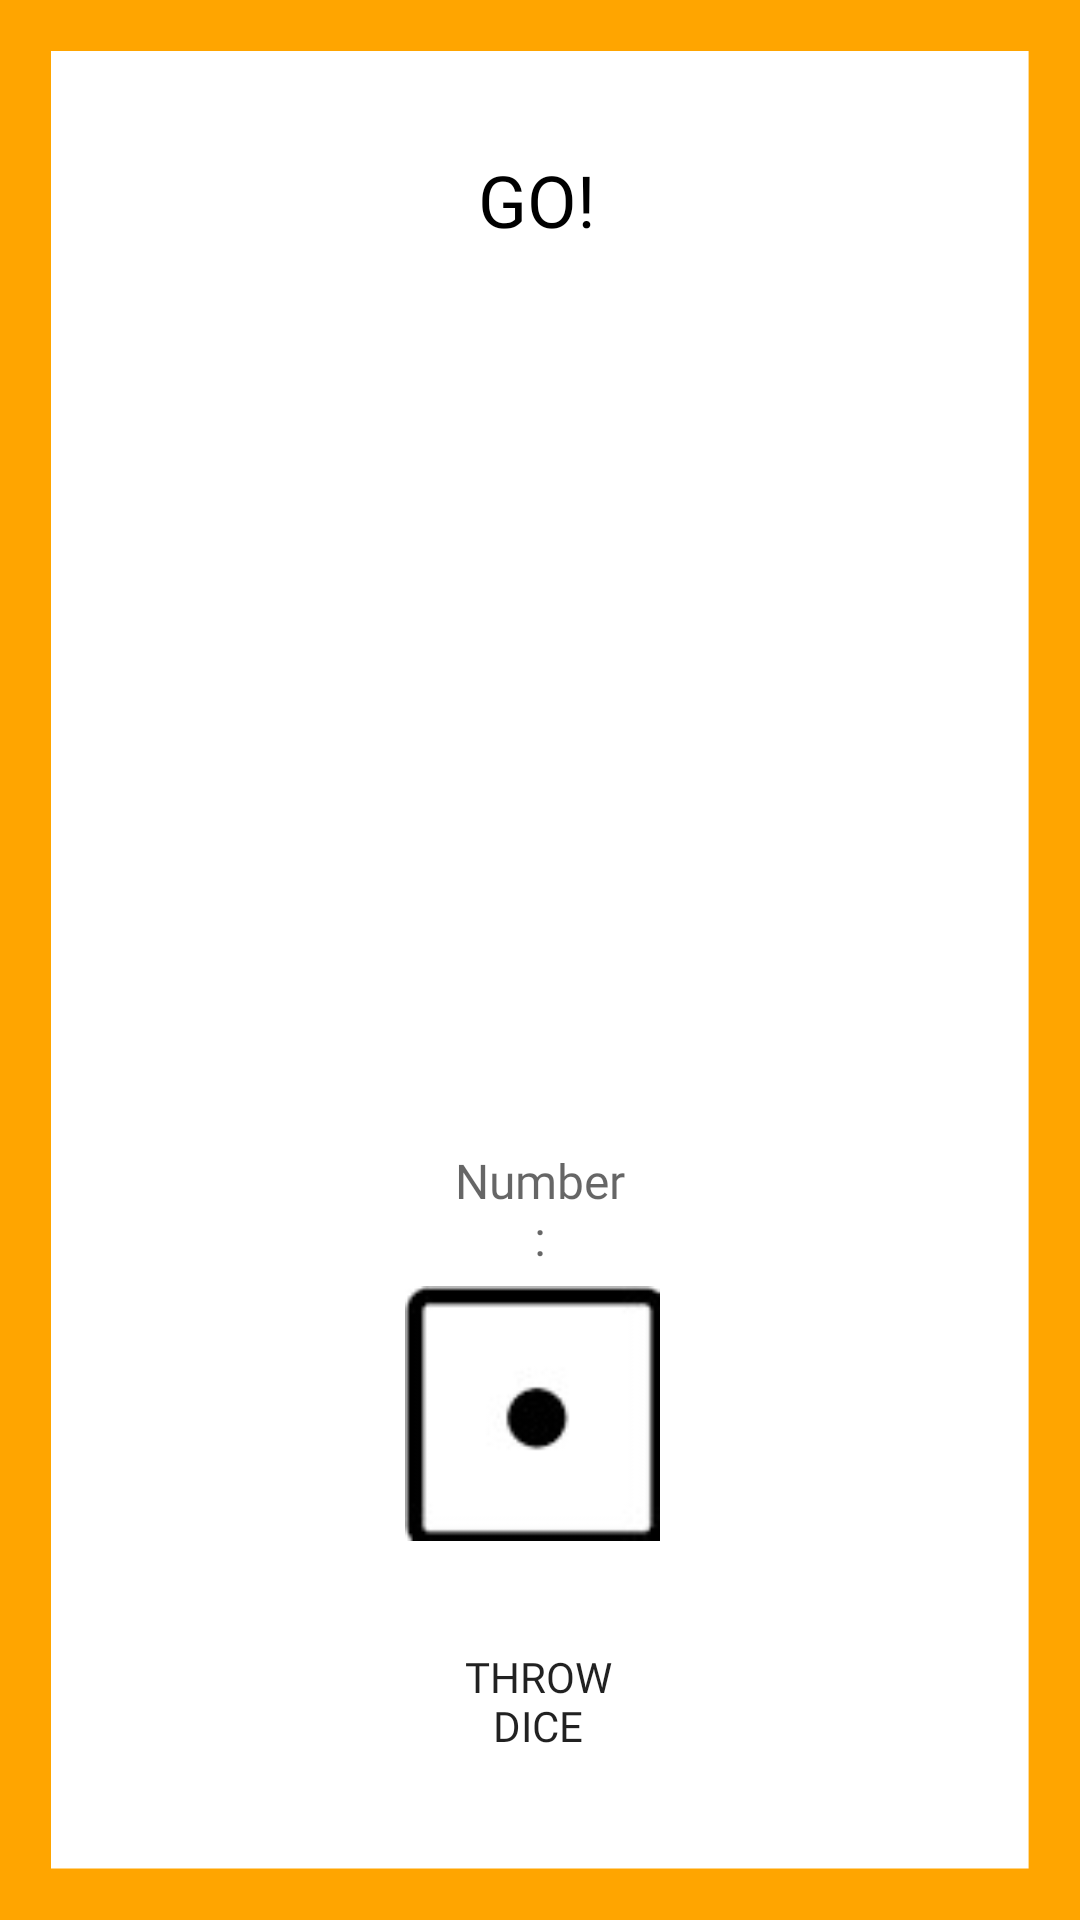

Icon bounding boxes for this 1080 x 1920 phone screenshot, format (x1, y1, x2, y2):
uno: (405, 1286, 660, 1541)
